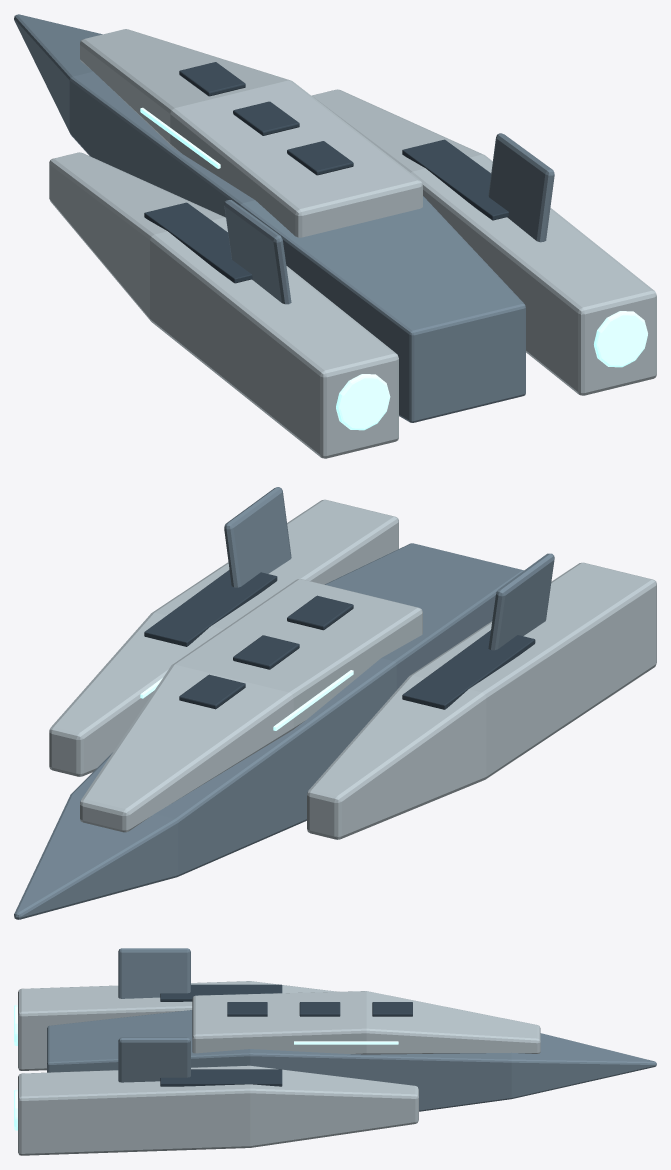
Rendered from FrigateWreck.fbx.
3 renders of one model, top to bottom at view 1: azimuth 30°, elevation 25°; view 2: azimuth 150°, elevation 25°; view 3: azimuth 270°, elevation 25°, orthographic. The views are drawn at different scales.
Visible parts, largest first — view 1: Piece_02, Piece_01, Piece_04, Piece_05, Piece_03, Piece_06; view 2: Piece_02, Piece_05, Piece_01, Piece_03, Piece_04, Piece_06; view 3: Piece_05, Piece_04, Piece_01, Piece_06, Piece_02, Piece_03.
Boxes of the visible parts, box(x1,y1,x2,y2) form: Piece_02: box(49, 63, 371, 364); Piece_01: box(204, 205, 469, 458); Piece_04: box(372, 138, 656, 409); Piece_05: box(167, 54, 510, 236); Piece_03: box(14, 14, 166, 163); Piece_06: box(18, 14, 207, 63); Piece_02: box(167, 584, 540, 855); Piece_05: box(49, 517, 358, 776); Piece_01: box(391, 553, 656, 743); Piece_03: box(16, 742, 226, 919); Piece_04: box(206, 487, 467, 600); Piece_06: box(14, 733, 166, 919); Piece_05: box(177, 1007, 453, 1150); Piece_04: box(14, 1034, 177, 1155); Piece_01: box(14, 948, 177, 1070); Piece_06: box(453, 1021, 656, 1106); Piece_02: box(177, 948, 453, 1033); Piece_03: box(453, 1008, 655, 1061).
Bounding box in the file's own units: 9 × 4.44 × 22.14.
